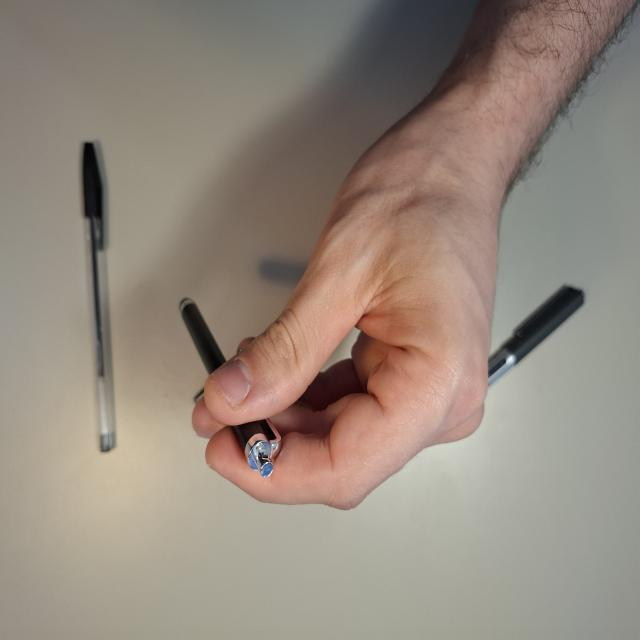glove_off: (189, 116, 548, 515)
